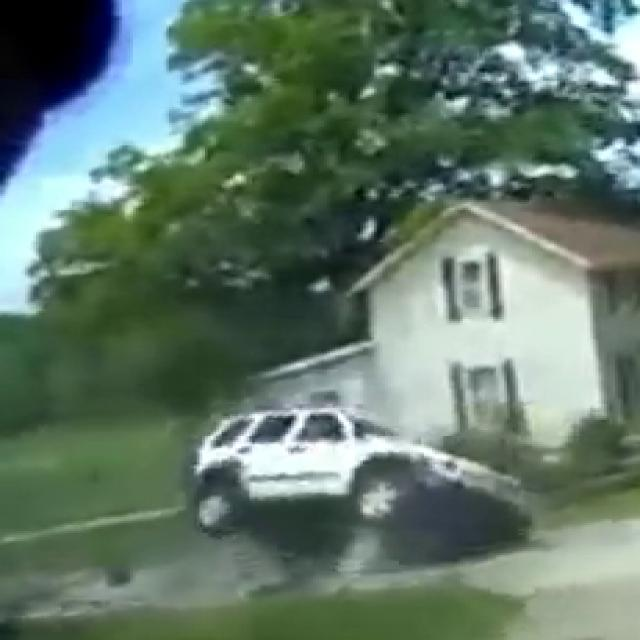accident: (167, 404, 526, 555)
